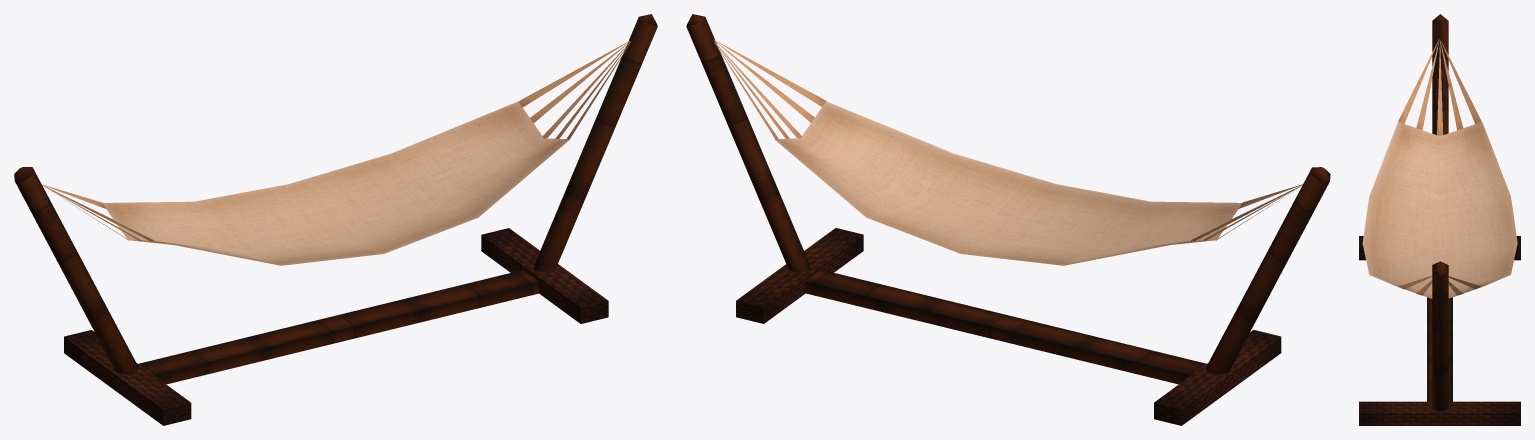
The model's file is Hammock_01.FBX.
The picture shows the model from 3 angles, left to right: view 1: azimuth 30°, elevation 25°; view 2: azimuth 150°, elevation 25°; view 3: azimuth 270°, elevation 25°; orthographic projection. The views are drawn at different scales.
Parts seen in each view (by area): view 1: Hammock_01; view 2: Hammock_01; view 3: Hammock_01.
Boxes of the visible parts, x1,y1,x2,y2 form: Hammock_01: [14, 14, 657, 425]; Hammock_01: [686, 14, 1330, 425]; Hammock_01: [1359, 14, 1520, 425].
Size of the model in its own units: 2.88 by 0.7731 by 1.04.
